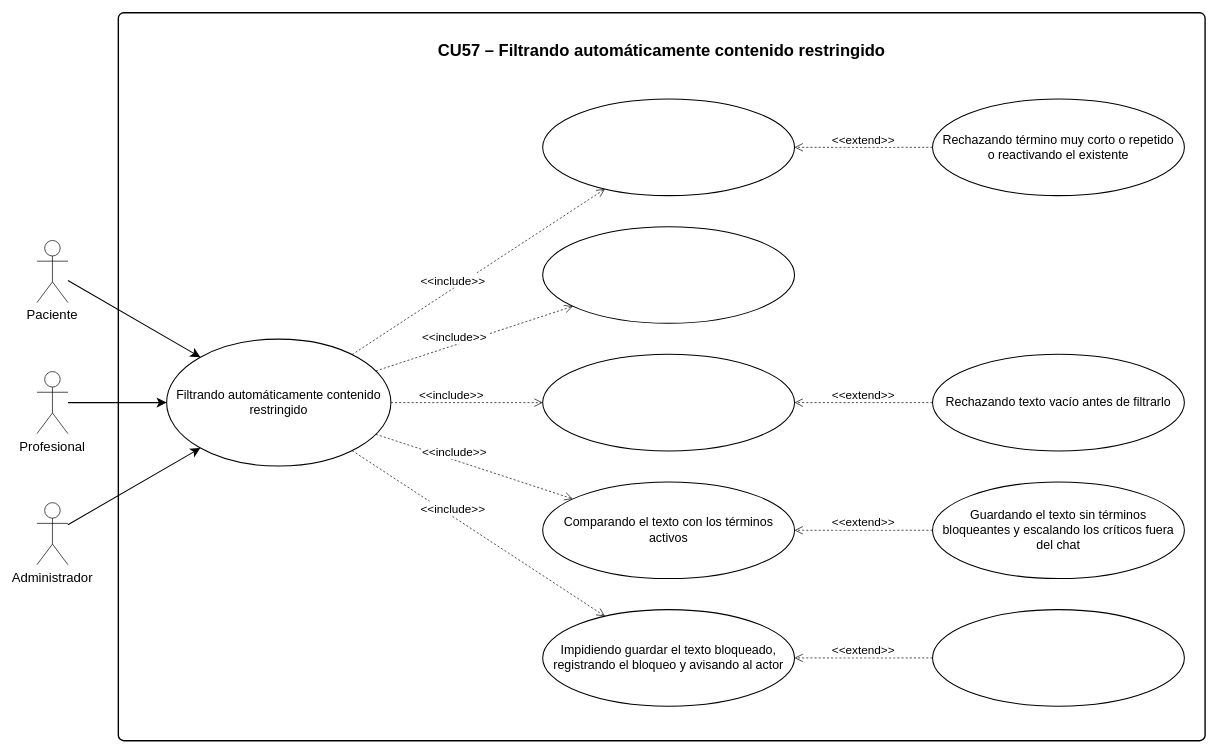
This 1218x753 diagram has some shape labels left out. The shapes that lost their labels are listed below. From the top down, each one's centre as x and y in pixels, then its label:
the point at 668,147: Manteniendo el diccionario agregando, activando o eliminando términos
the point at 668,274: Actualizando el filtro con cada cambio
the point at 668,402: Enviando un mensaje del chat o un comentario de evaluación
the point at 1058,657: Conservando el mensaje del chat en el teléfono ante pérdida de conexión
